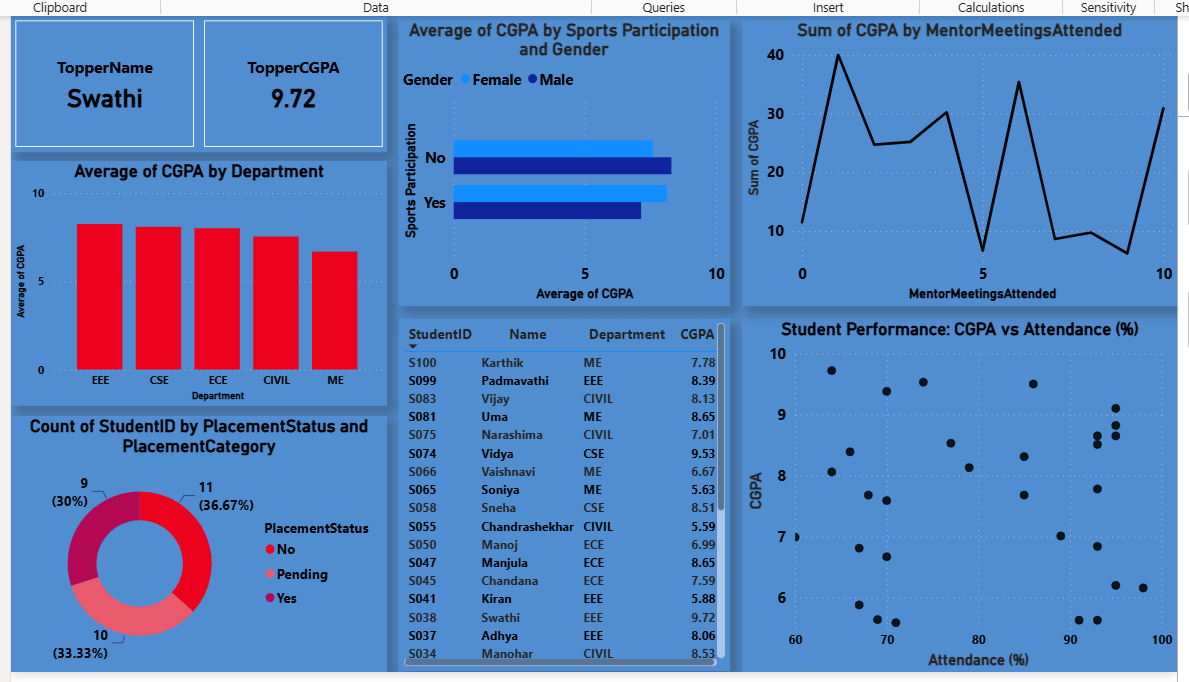

Layout of this report page (visuals, bound fields, positions):
{"tool":"powerbi","page":{"name":"Page 1","canvas":[1280,720],"ordinal":0},"visuals":[{"type":"cardVisual","fields":{"Data":["Sheet1.TopperName","Sheet1.TopperCGPA"]},"box":[0,0,413,149.6],"z":0},{"type":"clusteredColumnChart","fields":{"Y":["Sheet1.CGPA"],"Category":["Sheet1.Department"]},"box":[0,159.2,413,269],"z":1000},{"type":"donutChart","fields":{"Series":["Sheet1.PlacementCategory"],"Y":["Sheet1.StudentID"],"Category":["Sheet1.PlacementStatus"]},"box":[0,439.1,413,281.3],"z":2000},{"type":"clusteredBarChart","fields":{"Y":["Sheet1.CGPA"],"Category":["Sheet1.Sports Participation"],"Series":["Sheet1.Gender"]},"box":[425.4,4.1,363.6,314.2],"z":3000},{"type":"tableEx","fields":{"Values":["Sheet1.StudentID","Sheet1.Name","Sheet1.Department","Sheet1.CGPA"]},"box":[425.4,332.1,363.6,387],"z":4000},{"type":"scatterChart","title":"Student Performance: CGPA vs Attendance (%)","fields":{"X":["Sheet1.Attendance (%)"],"Y":["Sheet1.CGPA"]},"box":[802.7,332.1,477.5,388.3],"z":5000},{"type":"lineChart","fields":{"Y":["Sheet1.CGPA"],"Category":["Sheet1.MentorMeetingsAttended"]},"box":[802.7,4.1,477.5,314.2],"z":6000}]}

Visuals, with their boxes in screenshot pixels (x1, y1, x2, y2):
cardVisual - Sheet1.TopperName x Sheet1.TopperCGPA: 3 9 381 146
clusteredColumnChart - Sheet1.CGPA x Sheet1.Department: 3 155 381 402
donutChart - Sheet1.PlacementCategory x Sheet1.StudentID: 3 412 381 669
clusteredBarChart - Sheet1.CGPA x Sheet1.Sports Participation: 393 13 726 301
tableEx - Sheet1.StudentID x Sheet1.Name: 393 314 726 668
"Student Performance: CGPA vs Attendance (%)" scatterChart: 738 314 1176 669
lineChart - Sheet1.CGPA x Sheet1.MentorMeetingsAttended: 738 13 1176 301
